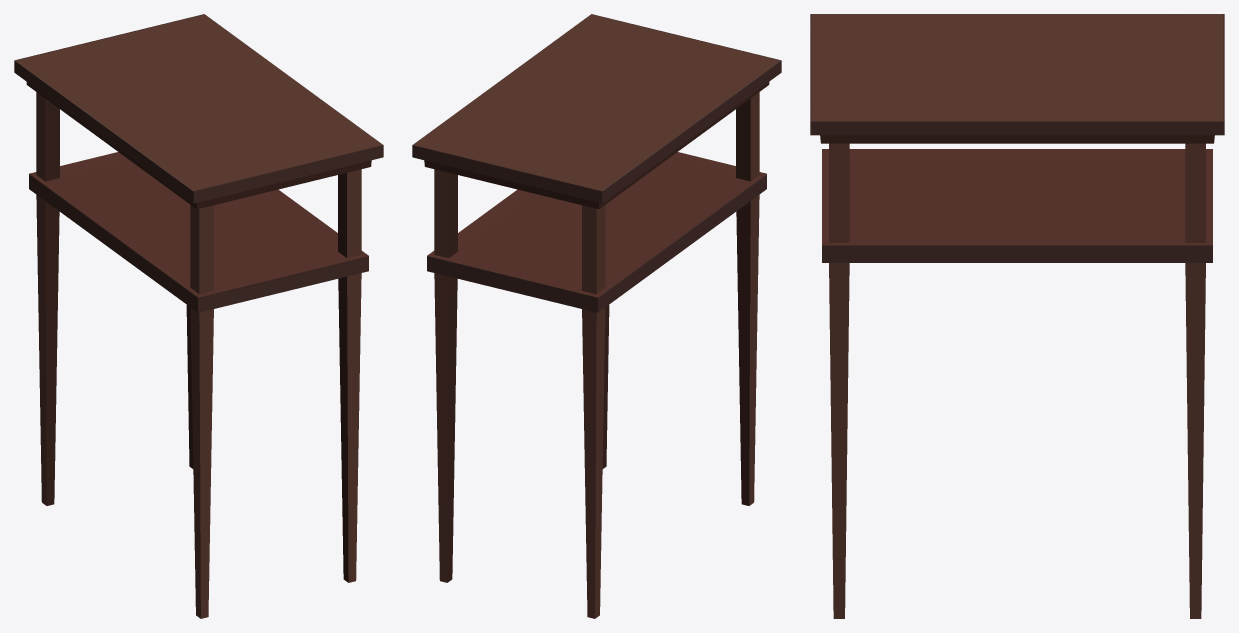
The model's file is shrine_table_v1.fbx.
The picture shows the model from 3 angles, left to right: view 1: azimuth 30°, elevation 25°; view 2: azimuth 150°, elevation 25°; view 3: azimuth 270°, elevation 25°; orthographic projection. The views are drawn at different scales.
Parts seen in each view (by area): view 1: table; view 2: table; view 3: table.
Part boxes in pixels (x1,y1,x2,y2): table: (14,14,383,618); table: (412,14,781,618); table: (810,14,1224,618).
Bounding box in the file's own units: 38.05 × 83.92 × 62.11.
